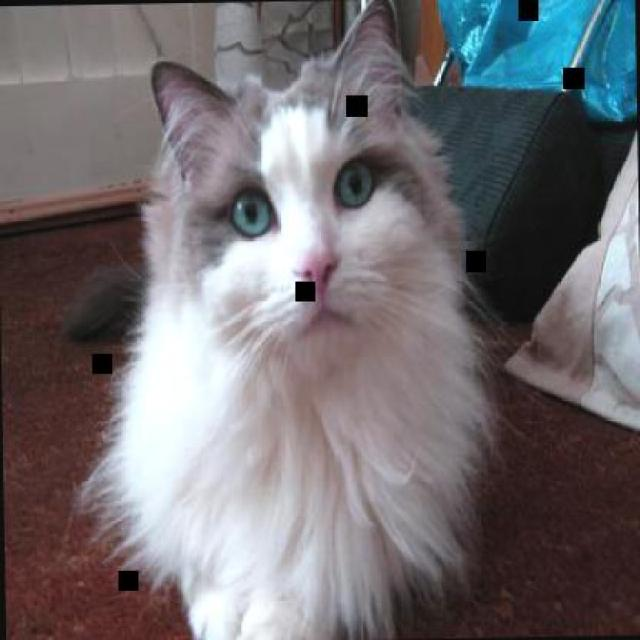cat: (50, 0, 503, 638)
